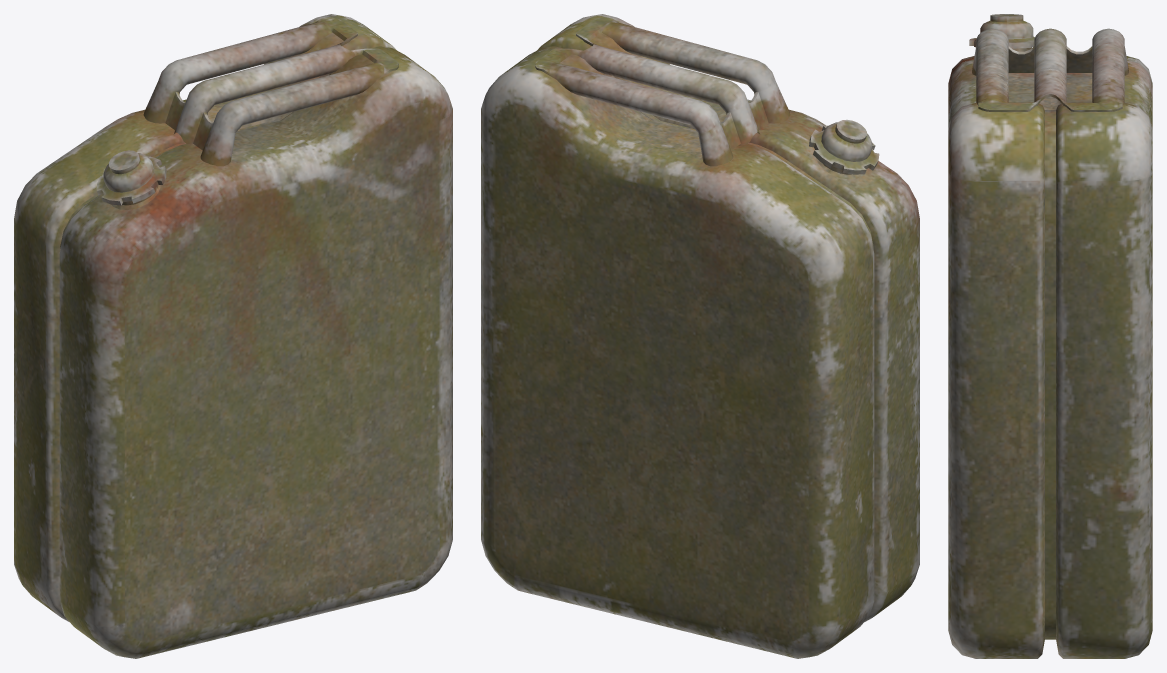
The model's file is SM_jerrycan_metal.fbx.
The picture shows the model from 3 angles, left to right: view 1: azimuth 30°, elevation 25°; view 2: azimuth 150°, elevation 25°; view 3: azimuth 270°, elevation 25°; orthographic projection. The views are drawn at different scales.
Parts seen in each view (by area): view 1: SM_jerrycan_metal_LOD0; view 2: SM_jerrycan_metal_LOD0; view 3: SM_jerrycan_metal_LOD0.
Boxes of the visible parts, x1,y1,x2,y2 form: SM_jerrycan_metal_LOD0: (14,14,452,658); SM_jerrycan_metal_LOD0: (481,14,919,658); SM_jerrycan_metal_LOD0: (948,14,1152,658).
Bounding box in the file's own units: 34 × 16 × 47.34.
